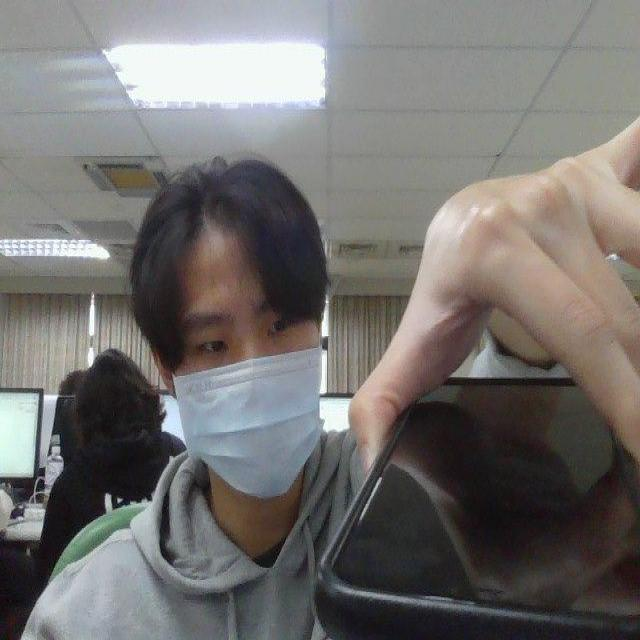ph: (316, 331, 639, 640)
